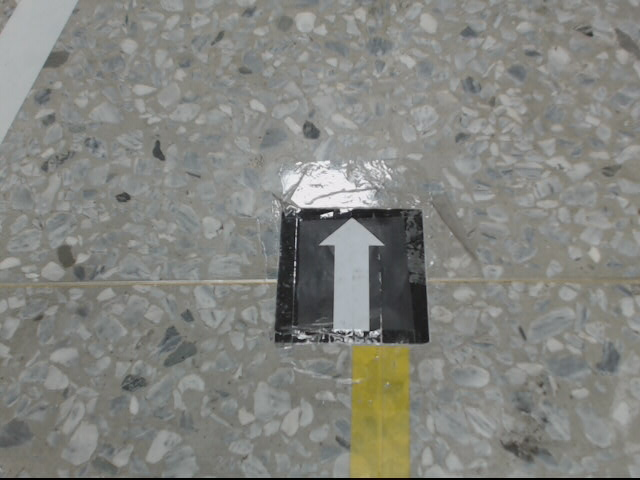straight: (275, 207, 431, 345)
